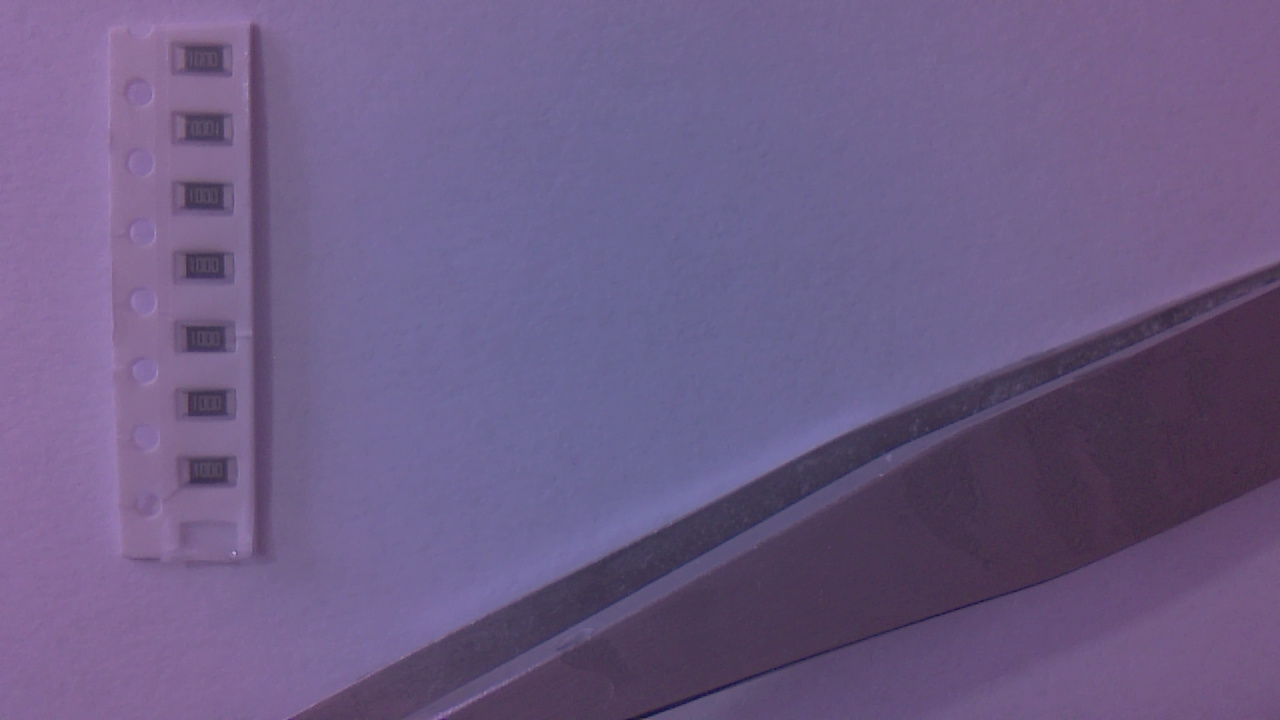Resistor: (180, 391, 241, 429), (179, 324, 239, 359), (178, 186, 241, 219), (178, 47, 240, 80), (186, 457, 242, 493), (180, 115, 241, 148), (182, 254, 240, 288)
